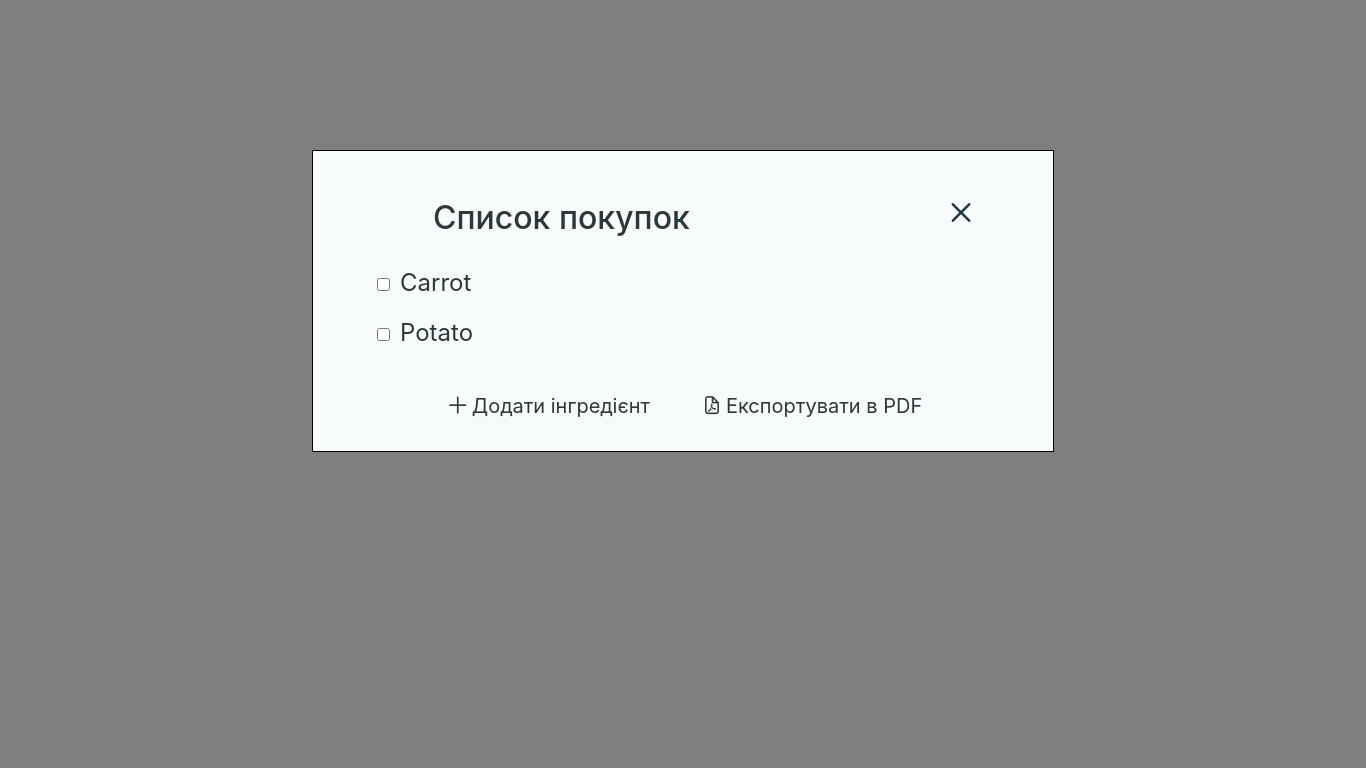
ShoppingListModal › should show input field when "Add Ingredient" is clicked
Click the button "Додати інгредієнт". click: click(547, 405)
box: [420,379,674,431]
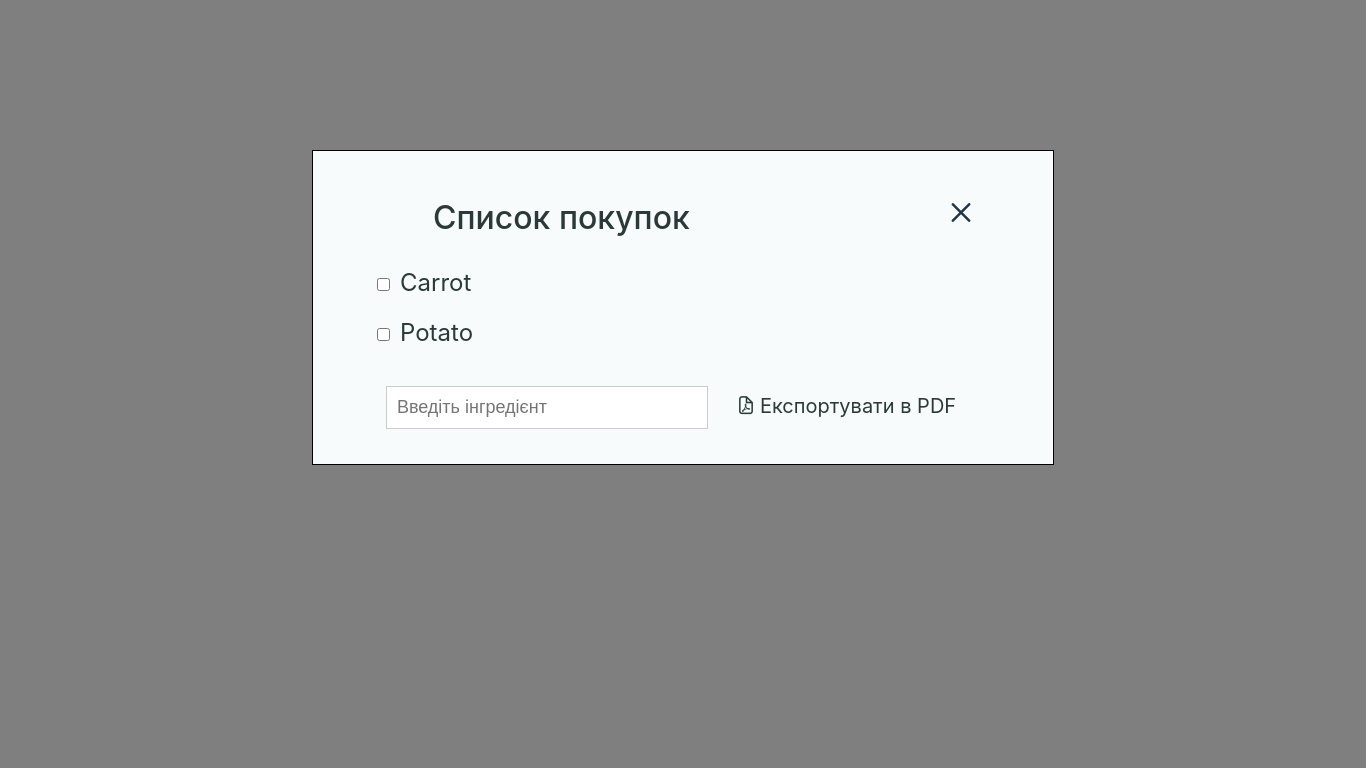
Now the field with placeholder "Введіть інгредієнт" is shown, box [386,386,708,429]
